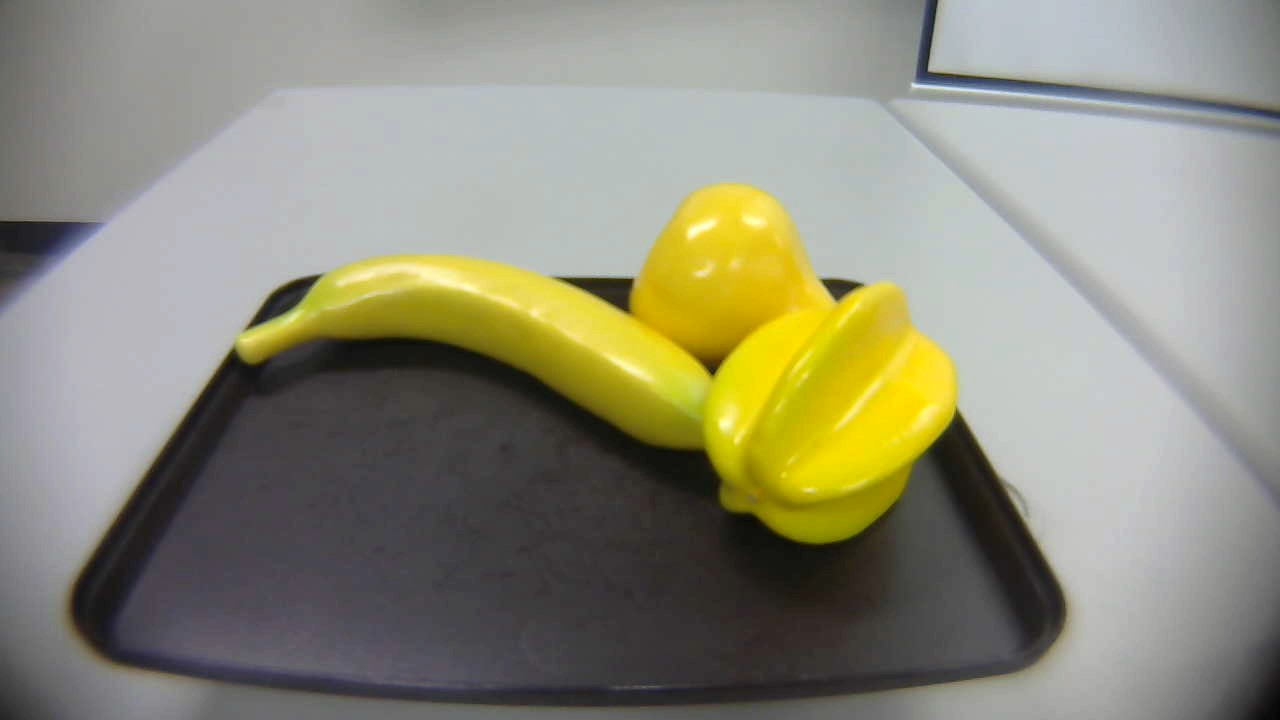banana: (222, 248, 727, 448)
star fruit: (688, 283, 963, 547)
yellow pear: (624, 179, 848, 379)
